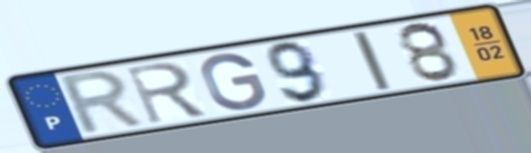8: (396, 20, 461, 86)
9: (266, 39, 331, 105)
G: (199, 51, 270, 113)
I: (347, 28, 396, 93)
R: (57, 67, 151, 139), (121, 59, 212, 127)
